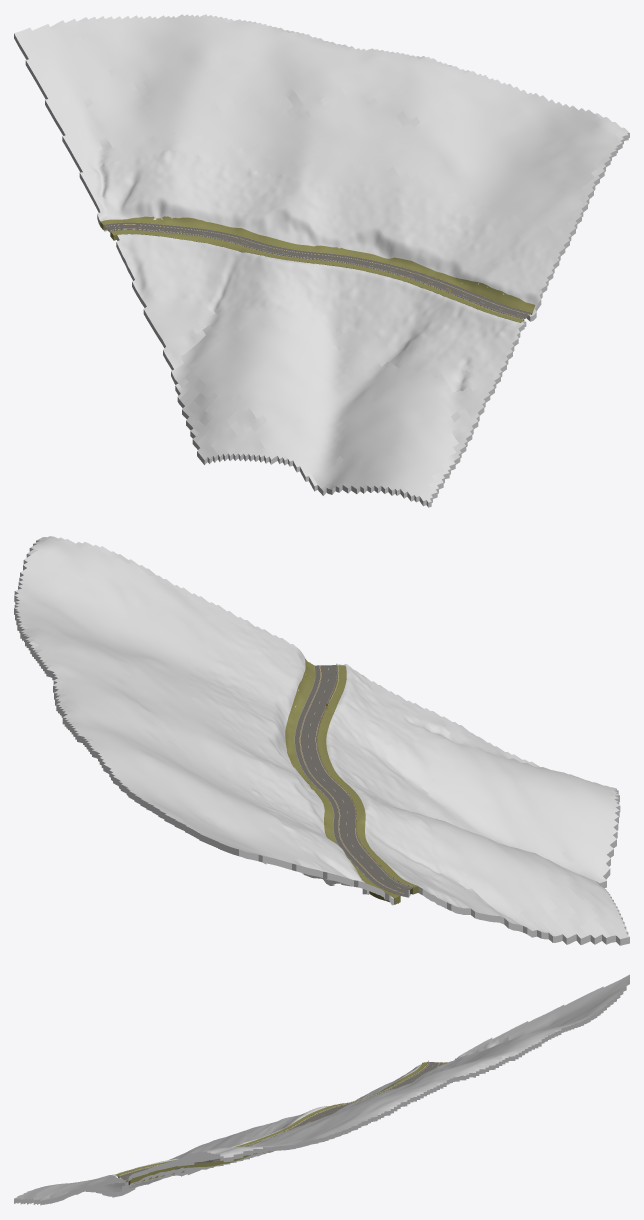
The model's file is conz_2.glb.
The picture shows the model from 3 angles, top to bottom: view 1: azimuth 30°, elevation 25°; view 2: azimuth 150°, elevation 25°; view 3: azimuth 270°, elevation 25°; orthographic projection. The views are drawn at different scales.
Parts seen in each view (by area): view 1: terrain2, verge2L, road2, verge2R; view 2: terrain2, road2, verge2R, verge2L; view 3: terrain2, verge2R, road2, verge2L.
Part boxes in pixels (x1,y1,x2,y2): terrain2: (14,14,629,507); verge2L: (100,216,535,314); road2: (104,223,531,319); verge2R: (110,230,524,322); terrain2: (14,536,629,945); road2: (295,665,412,894); verge2R: (316,665,418,894); verge2L: (285,659,400,904); terrain2: (14,974,629,1205); verge2R: (115,1062,427,1178); road2: (119,1062,442,1181); verge2L: (127,1062,447,1184).
Size of the model in its own units: 270 by 153 by 376.
